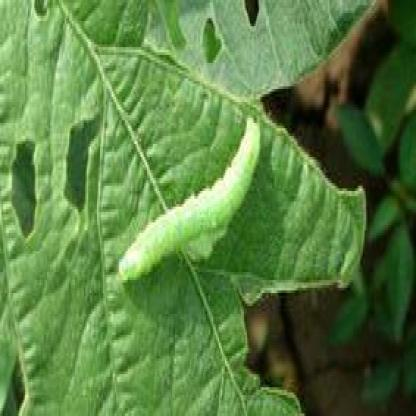armyworm: (107, 99, 284, 317)
